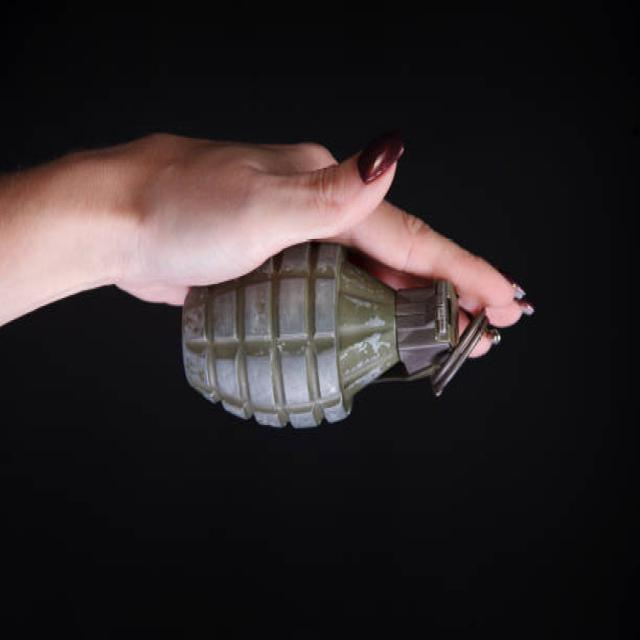grenade: (177, 238, 506, 431)
